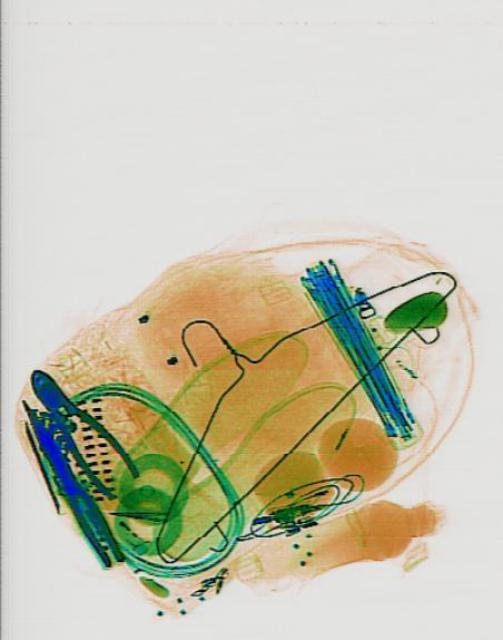Pliers: (9, 392, 128, 574), (15, 352, 141, 504)
